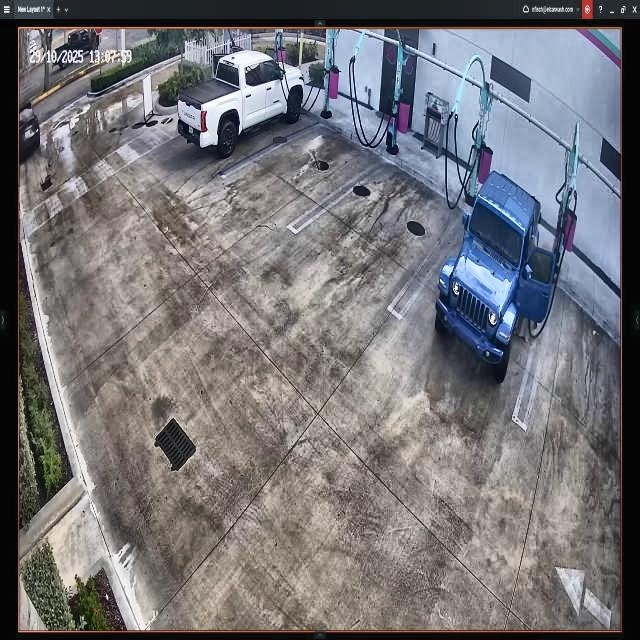Car: (441, 172, 556, 376), (181, 53, 302, 164)
